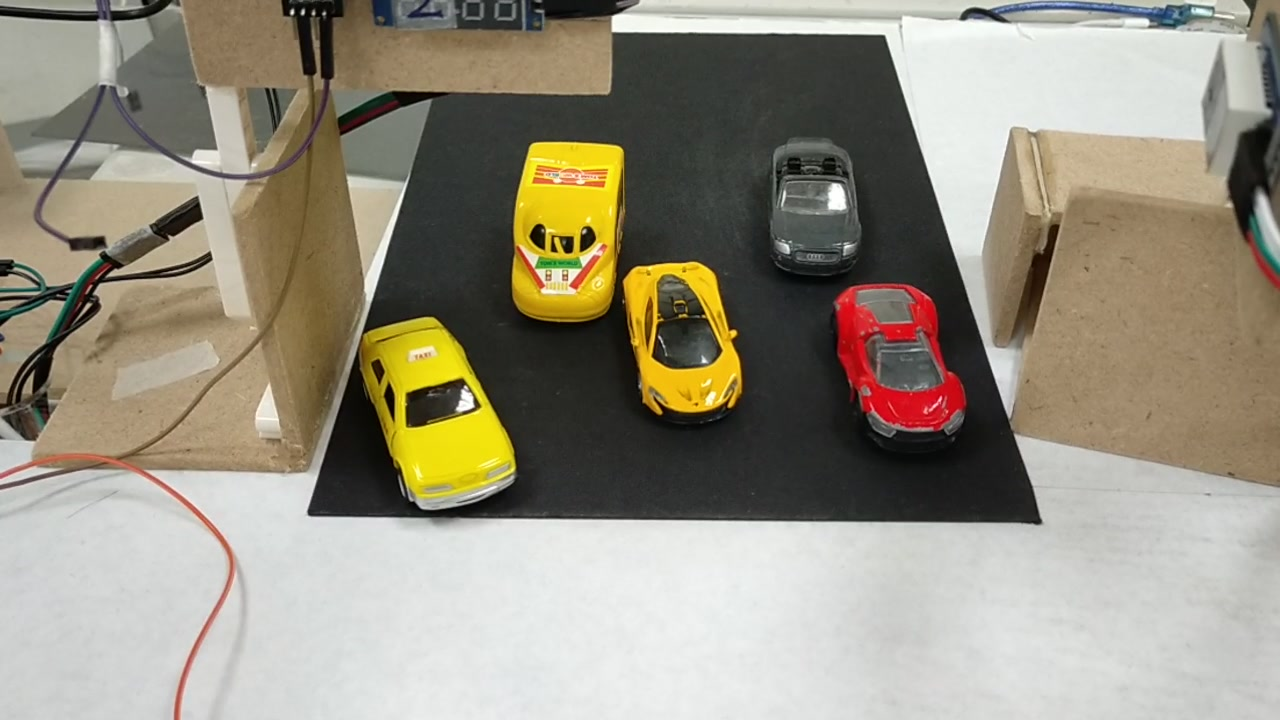car: (358, 323, 518, 514), (827, 288, 968, 447), (624, 264, 747, 421), (763, 136, 862, 272)
